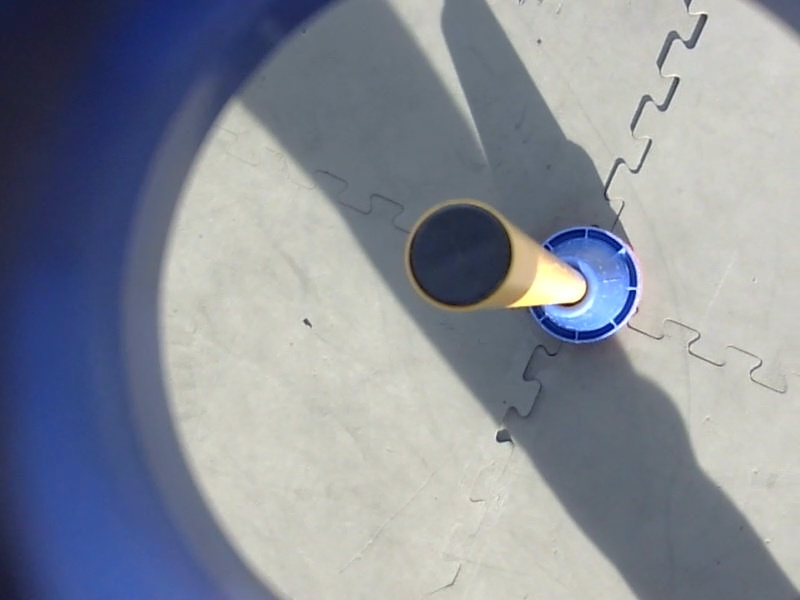tip: (400, 195, 522, 314)
